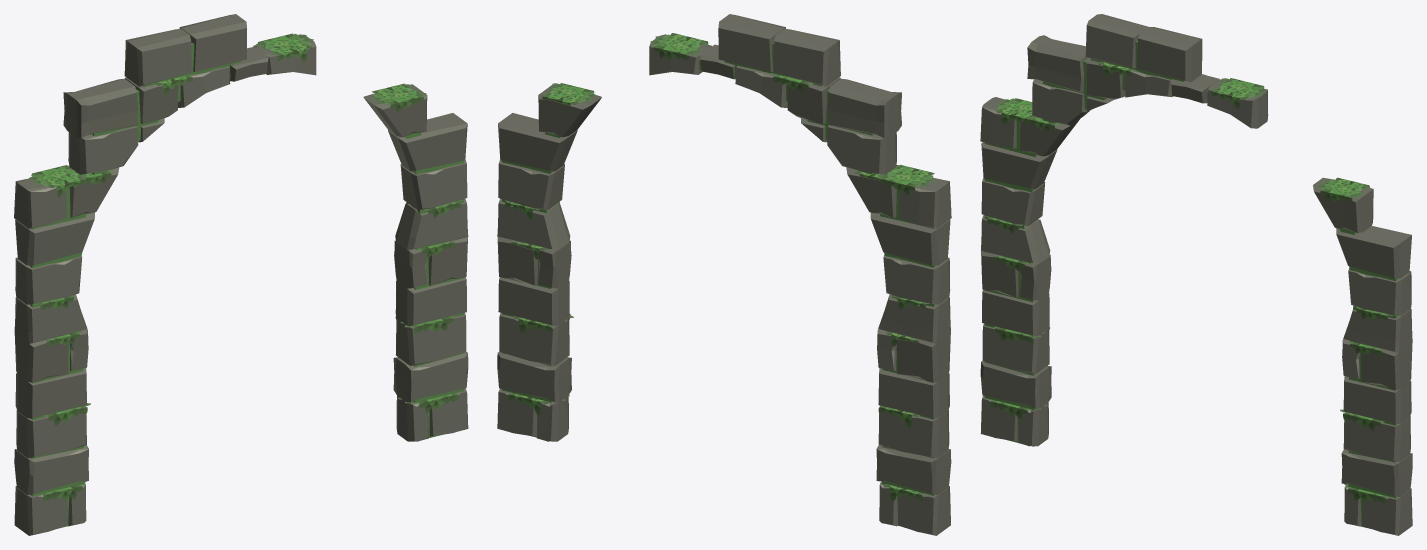
File: quaternius-ultimate-modular-ruins-wall-archround-overgrown-broken.glb
3 views of the same model, side by side, from view 1: azimuth 30°, elevation 25°; view 2: azimuth 150°, elevation 25°; view 3: azimuth 330°, elevation 25° (orthographic). The views are drawn at different scales.
Visible parts, largest first — view 1: Wall_ArchRound_Overgrown_Broken; view 2: Wall_ArchRound_Overgrown_Broken; view 3: Wall_ArchRound_Overgrown_Broken.
Part boxes in pixels (x1,y1,x2,y2): Wall_ArchRound_Overgrown_Broken: [14, 14, 468, 535]; Wall_ArchRound_Overgrown_Broken: [497, 14, 951, 535]; Wall_ArchRound_Overgrown_Broken: [980, 14, 1412, 535].
Size of the model in its own units: 3.99 by 3.99 by 0.3161.
Materials: 4 (1 with a texture image).
